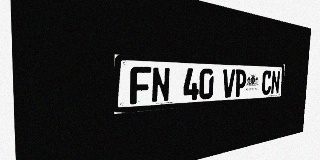0: (199, 68, 214, 100)
4: (183, 68, 199, 101)
C: (261, 70, 272, 95)
F: (130, 66, 151, 105)
N: (151, 67, 170, 103), (271, 71, 280, 94)
P: (234, 69, 247, 97)
V: (222, 69, 235, 98)
